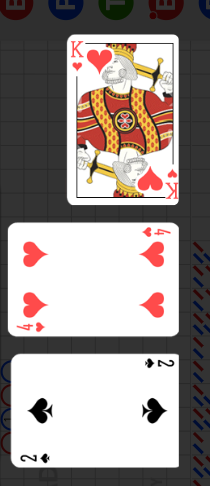2S: (142, 357, 175, 370)
4H: (141, 226, 171, 239)
KH: (69, 39, 85, 73)
